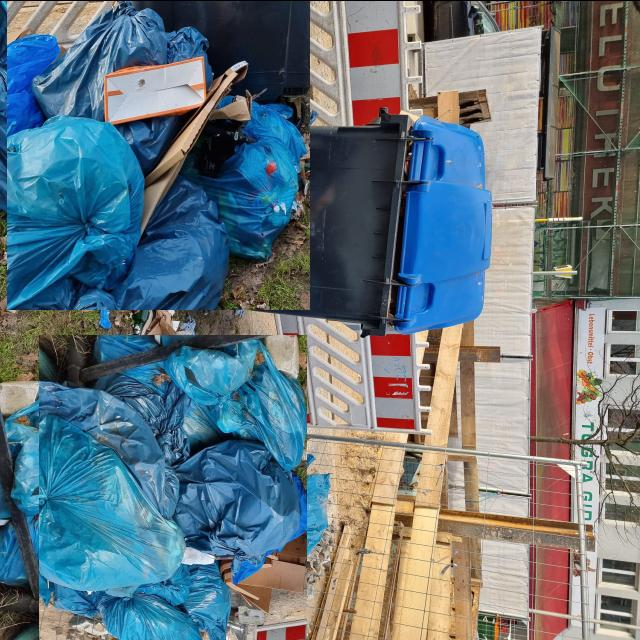garbage: (4, 0, 314, 306), (20, 352, 327, 640)
